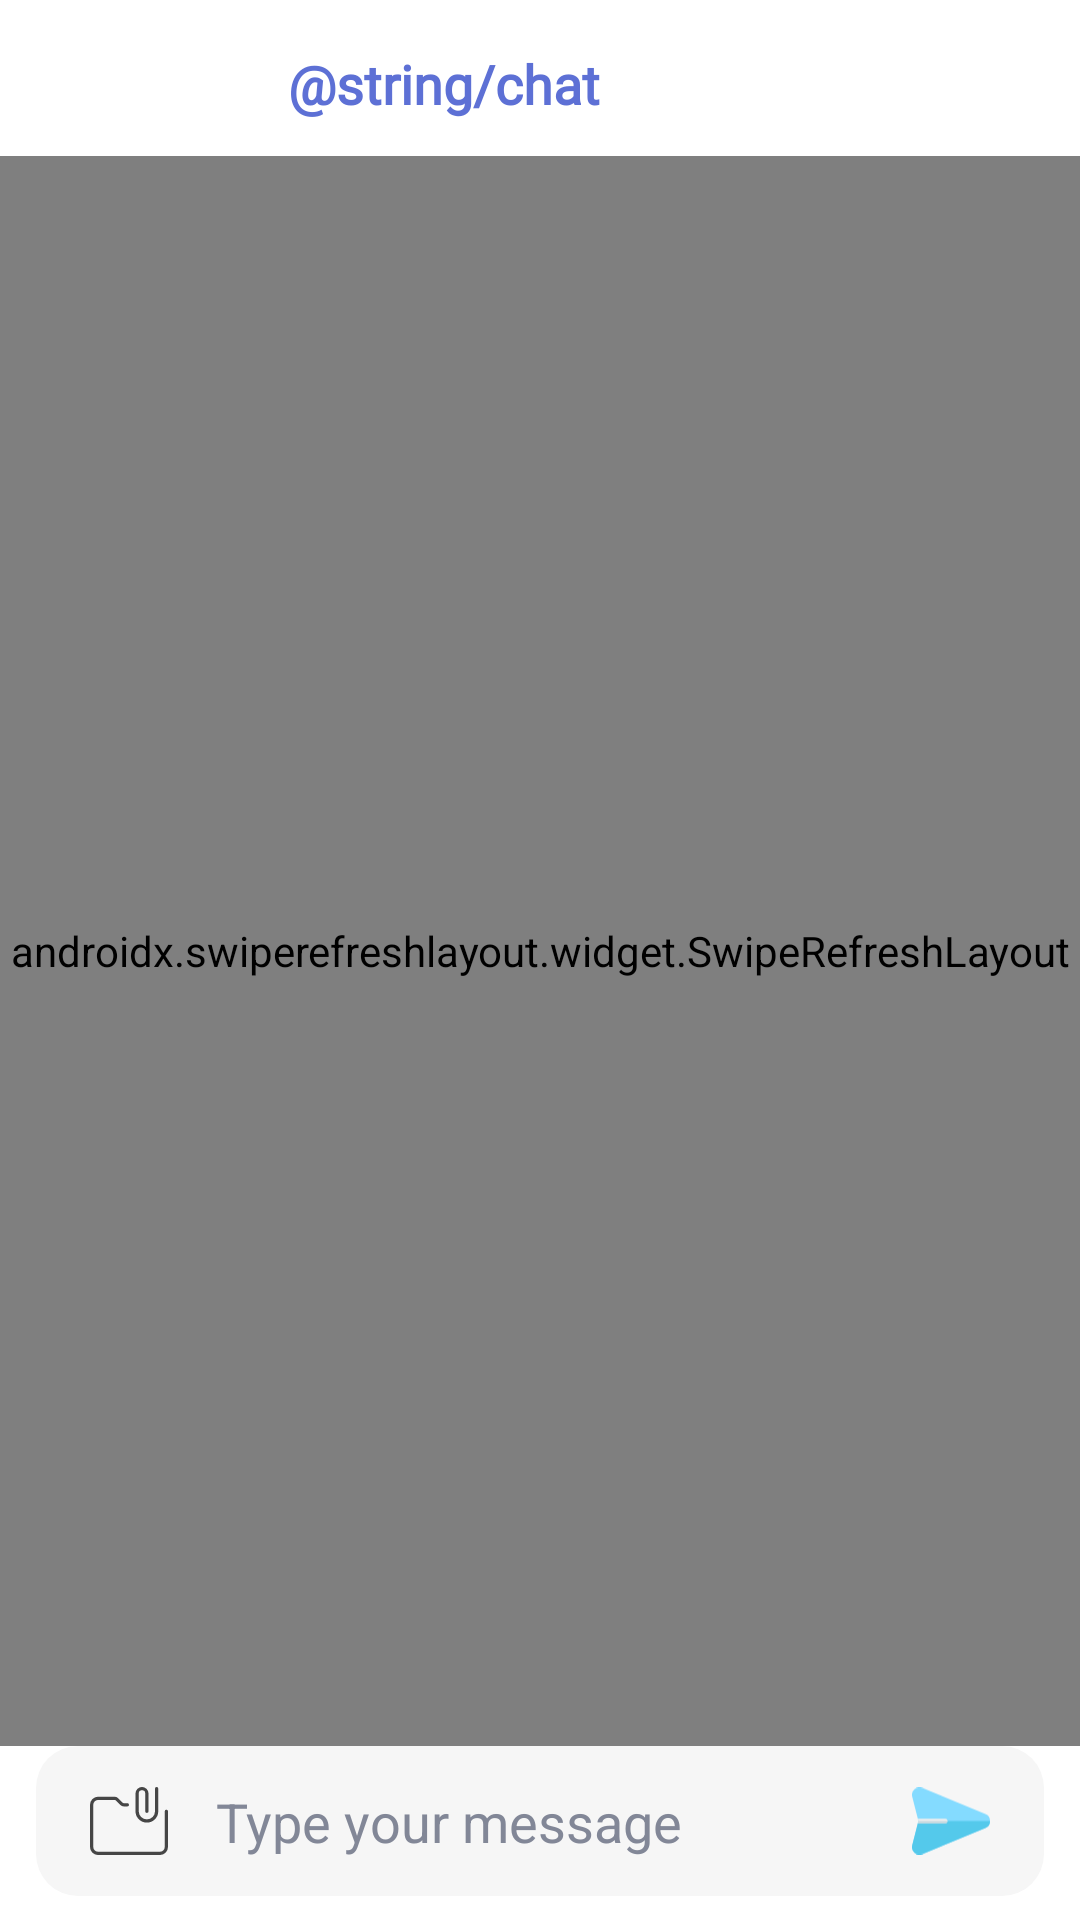

Icons on this 1080w x 1920h Android screen, each with the point to tap as [x,y]:
files add: [129,1821]
send: [951,1821]
